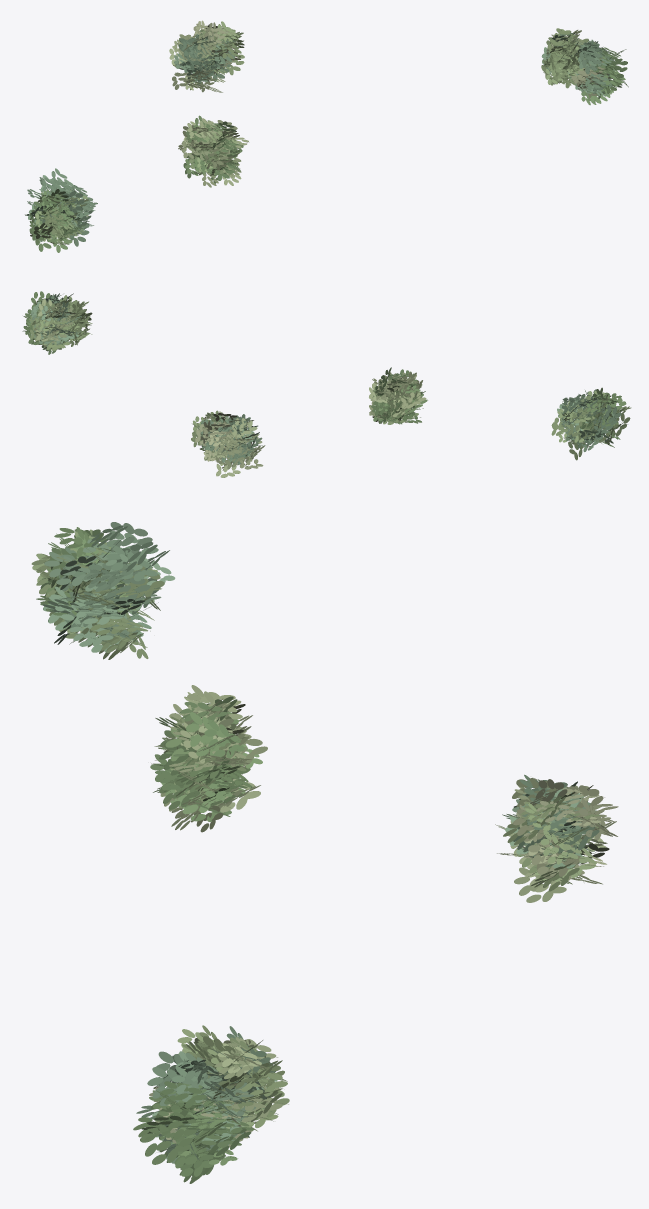
The model's file is campus-tree-4_-4-far.glb.
3 renders of one model, top to bottom at view 1: azimuth 30°, elevation 25°; view 2: azimuth 150°, elevation 25°; view 3: azimuth 270°, elevation 25°, orthographic. The views are drawn at different scales.
Parts seen in each view (by area): view 1: Campus leaf canopy; view 2: Campus leaf canopy; view 3: Campus leaf canopy.
Part boxes in pixels (<box>): Campus leaf canopy: <box>25,20,628,252</box>; Campus leaf canopy: <box>22,291,631,477</box>; Campus leaf canopy: <box>31,522,618,1183</box>.
Size of the model in its own units: 51.76 by 6.94 by 22.84.
Materials: 1 (1 with a texture image).
